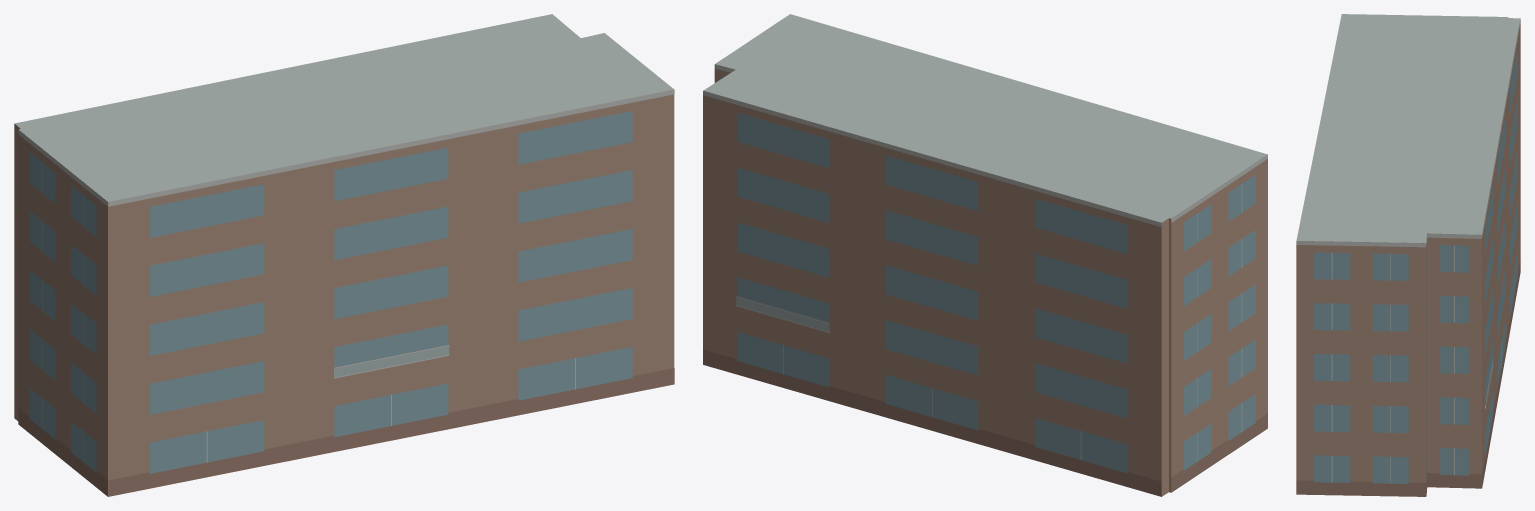
Rendered from survey-upis-32782899.glb.
3 renders of one model, left to right at view 1: azimuth 30°, elevation 25°; view 2: azimuth 150°, elevation 25°; view 3: azimuth 270°, elevation 25°, orthographic. The views are drawn at different scales.
Visible parts, largest first — view 1: survey-upis-32782899.tmp; view 2: survey-upis-32782899.tmp; view 3: survey-upis-32782899.tmp.
Boxes of the visible parts, bbox=[...] form: survey-upis-32782899.tmp: bbox=[14, 14, 674, 496]; survey-upis-32782899.tmp: bbox=[703, 14, 1267, 496]; survey-upis-32782899.tmp: bbox=[1296, 14, 1520, 496].
Size of the model in its own units: 28.92 by 14.93 by 11.96.
